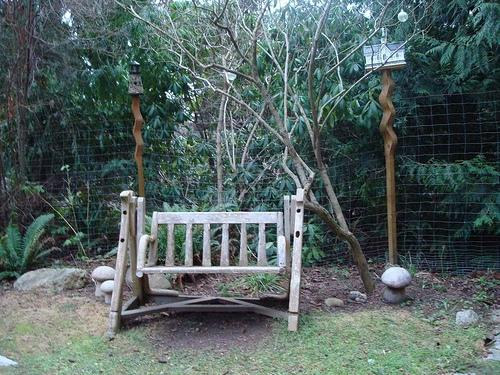mushroom: (380, 267, 413, 304), (92, 266, 115, 297), (99, 280, 114, 304)
